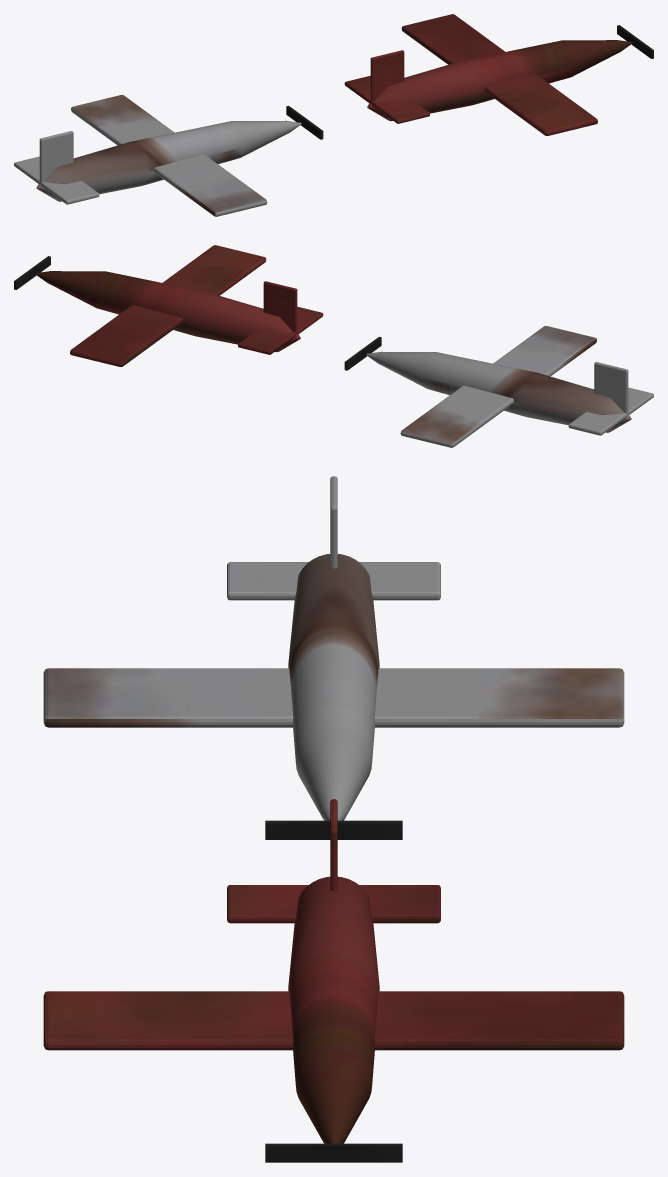
The model's file is TY22_ToyAirplane.glb.
3 views of the same model, one above another, from view 1: azimuth 30°, elevation 25°; view 2: azimuth 150°, elevation 25°; view 3: azimuth 270°, elevation 25° (orthographic). The views are drawn at different scales.
Parts seen in each view (by area): view 1: TY22_ToyAirplane; view 2: TY22_ToyAirplane; view 3: TY22_ToyAirplane.
Part boxes in pixels (left/top/right/bottom): TY22_ToyAirplane: left=14, top=14, right=653, bottom=216; TY22_ToyAirplane: left=14, top=245, right=653, bottom=447; TY22_ToyAirplane: left=43, top=476, right=624, bottom=1162.
Bounding box in the file's own units: 0.4 × 0.0441 × 0.1676.
3 materials, 3 textured.
